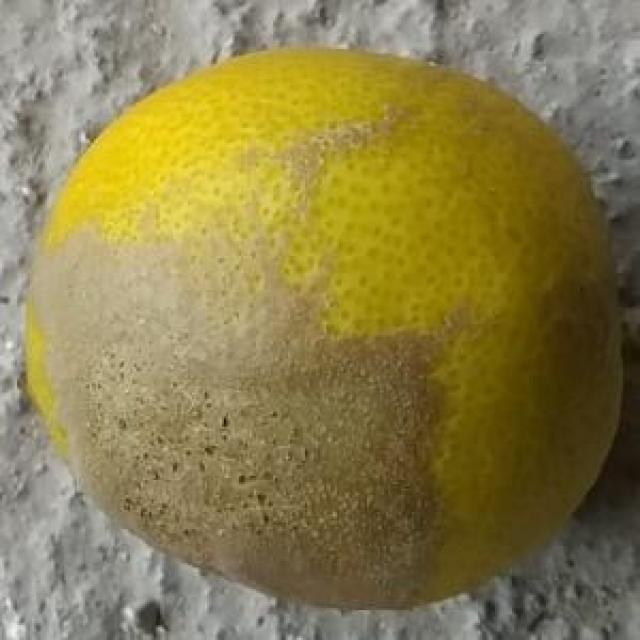lemon: (21, 39, 625, 614)
